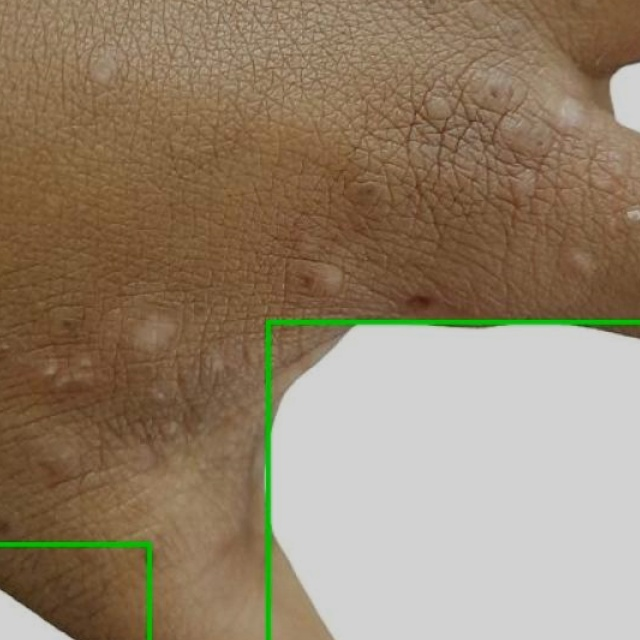Scabies: (0, 0, 639, 639), (266, 323, 639, 639)
